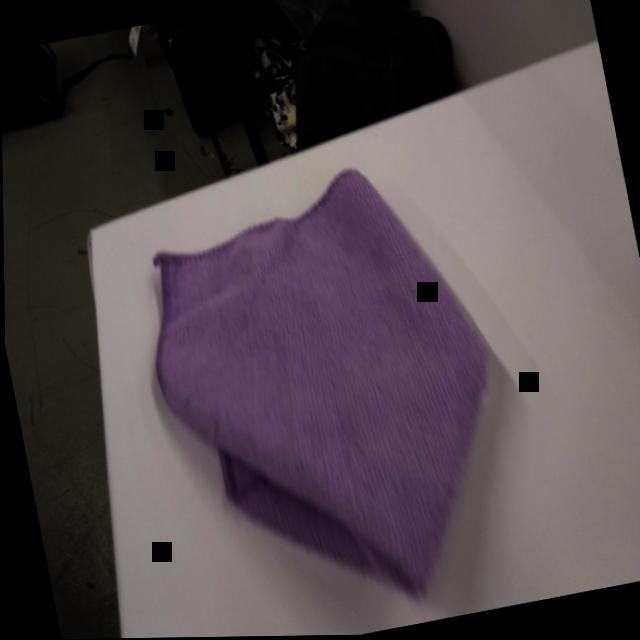cloth_opl: (114, 141, 538, 639)
